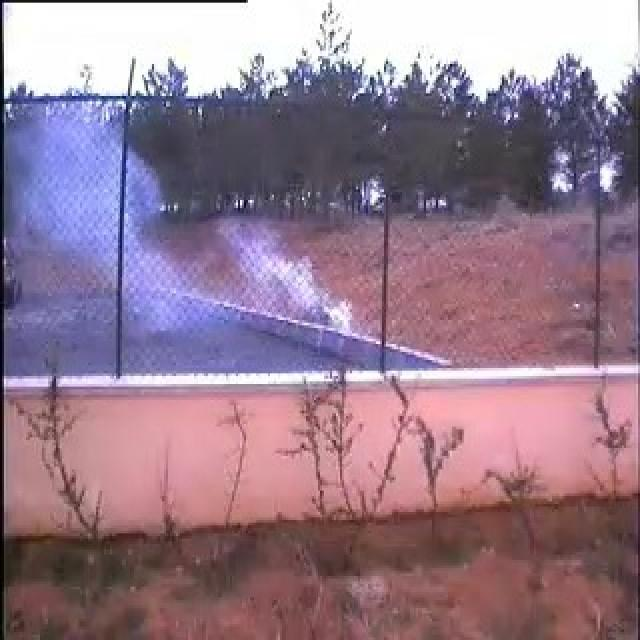smoke: (21, 120, 359, 340)
